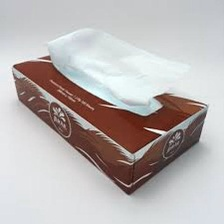book: (6, 47, 214, 201)
tissue: (41, 20, 197, 112)
